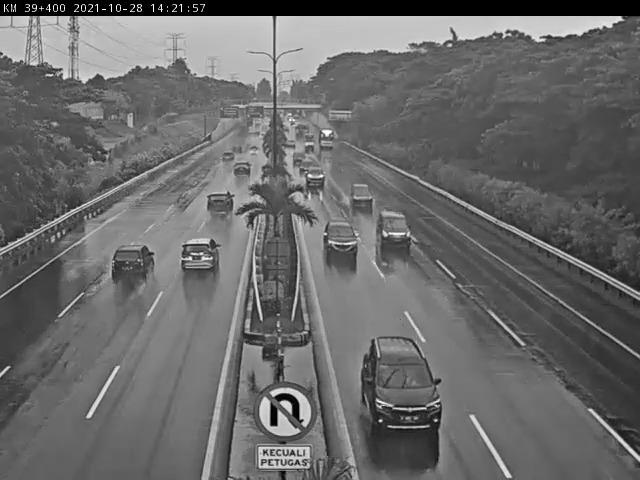car: (359, 335, 448, 437), (108, 243, 156, 284), (319, 217, 363, 261), (374, 209, 416, 252), (180, 236, 223, 273), (350, 180, 378, 210), (206, 189, 234, 217), (304, 166, 330, 190), (231, 161, 252, 177), (219, 150, 239, 164), (290, 147, 305, 165)
